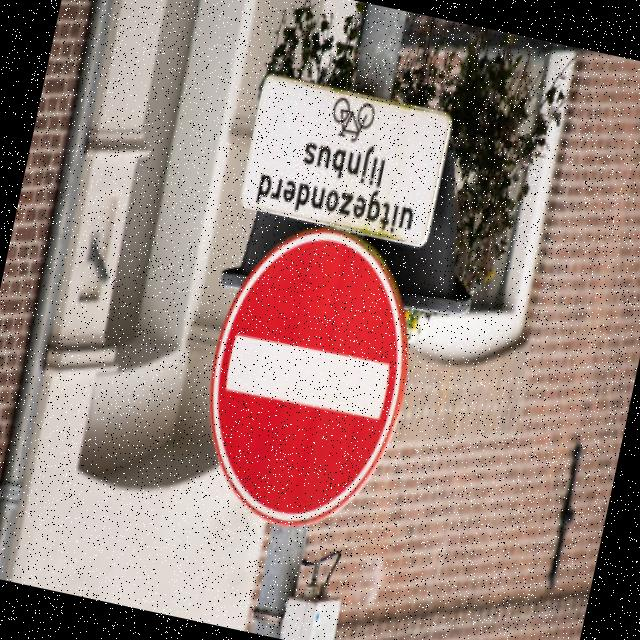do_not_enter: (163, 214, 434, 554)
